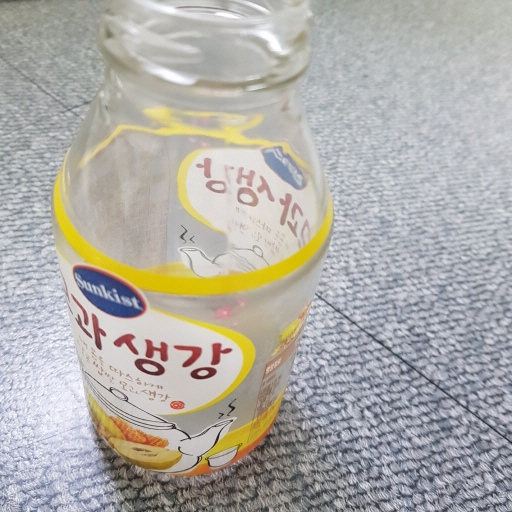Glass_4: (55, 1, 331, 486)
